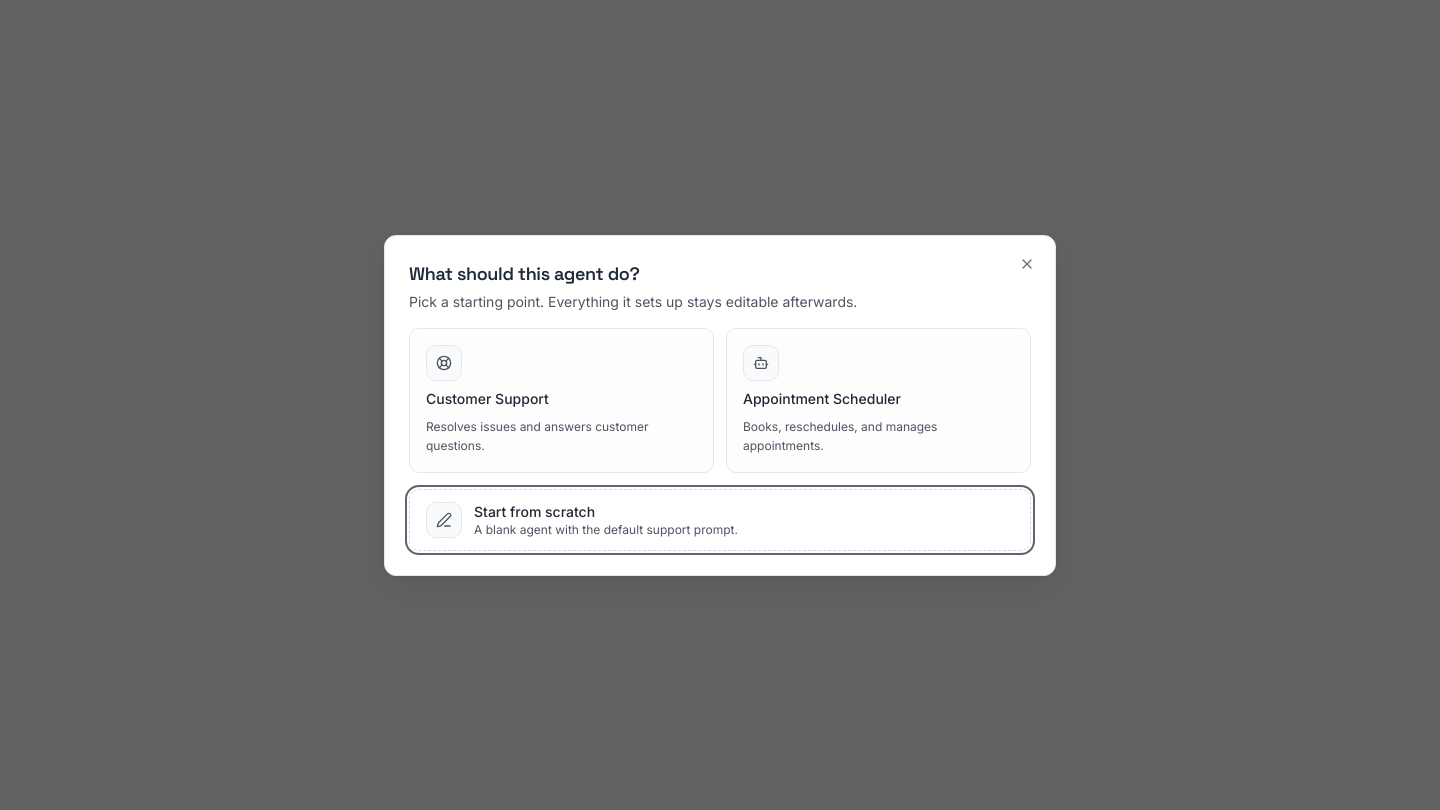
Test case: NewAgentDialog › keeps the typed name when the create fails, instead of dropping the dialog
Step 1. Click the text "Customer Support" → (487, 398), box [426, 388, 549, 408]
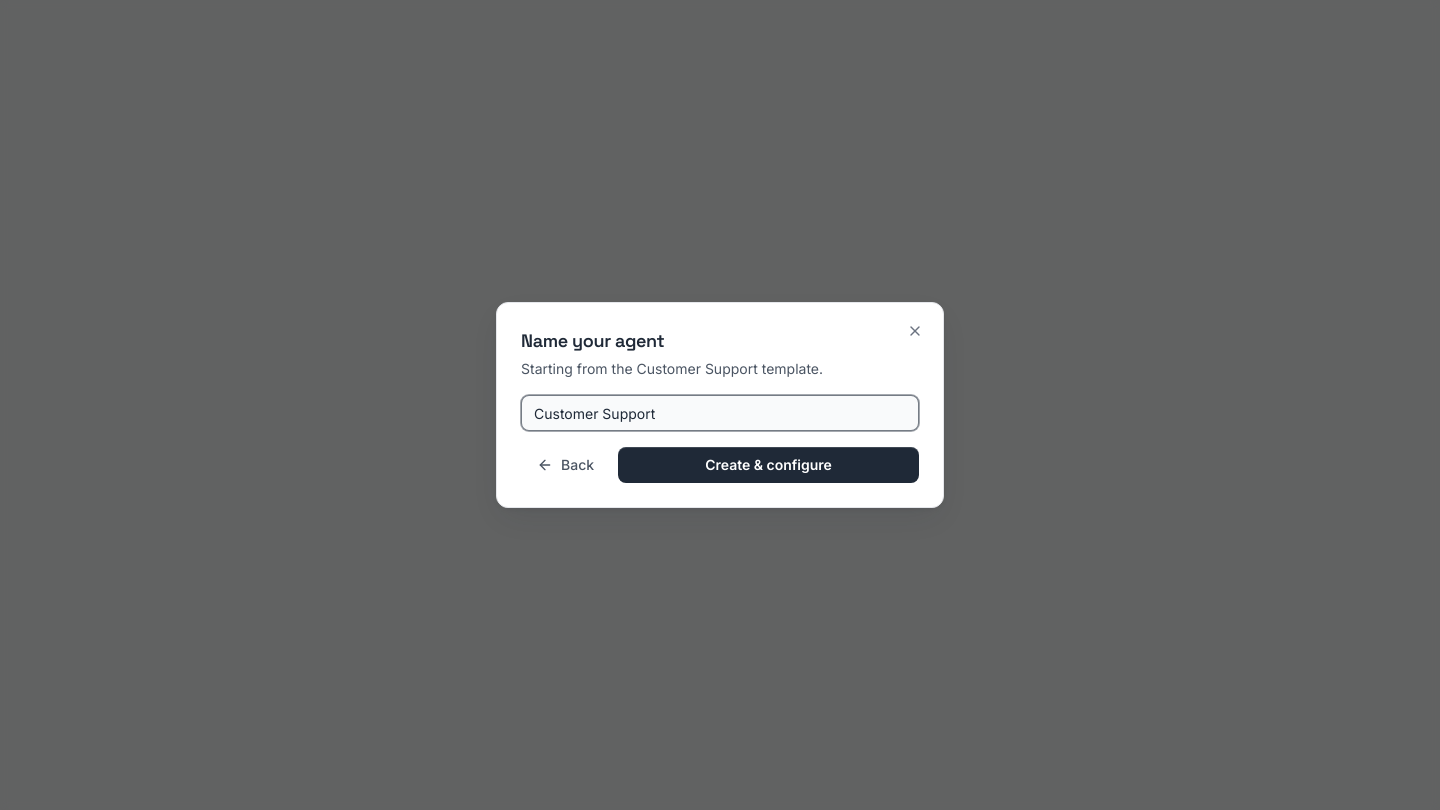
Step 2. Click the button "Create & configure" → (769, 465), box [618, 447, 919, 483]
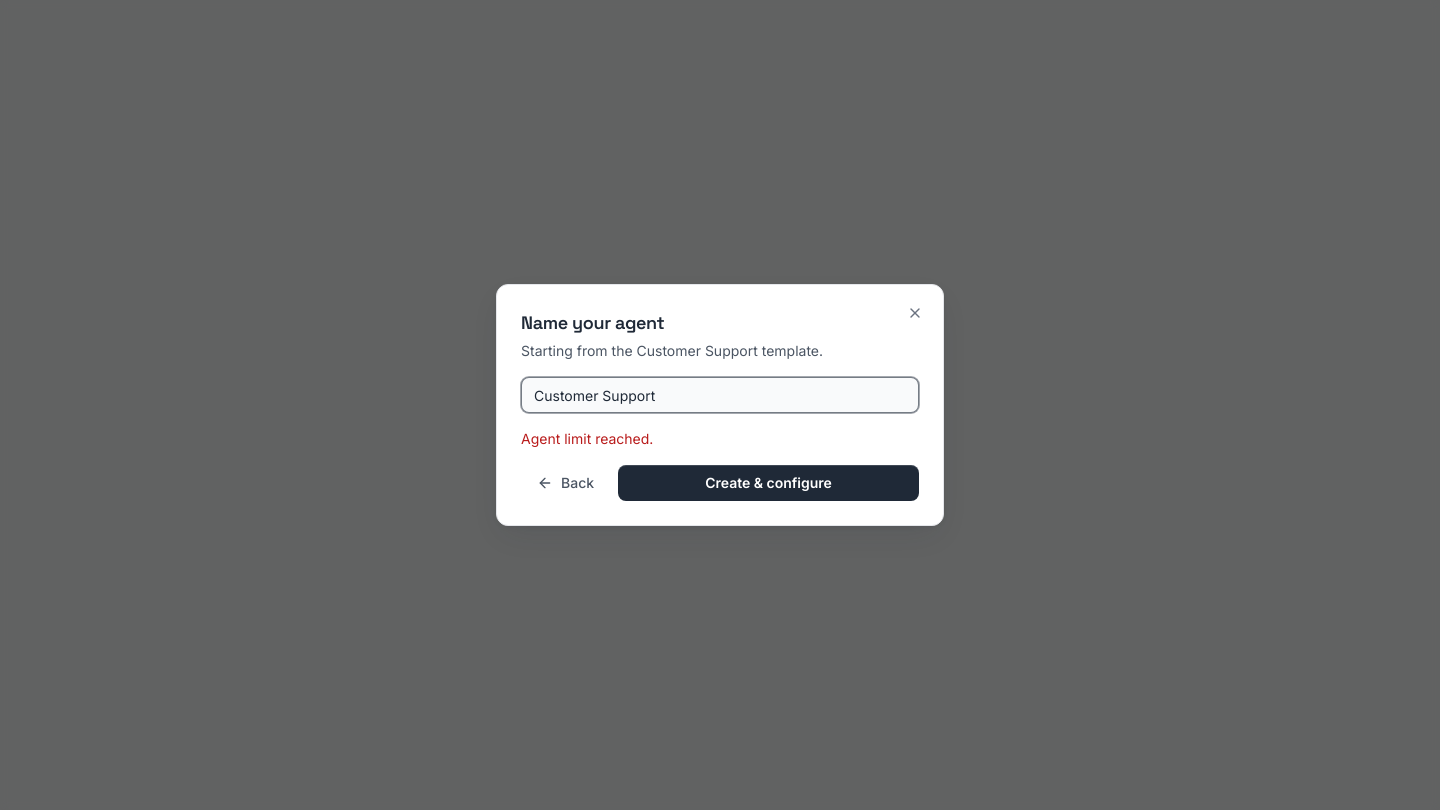
Check: the field named "Agent name" holds "Customer Support", box [521, 377, 919, 413]
Check: the text "Agent limit reached." is shown, box [521, 430, 653, 447]
